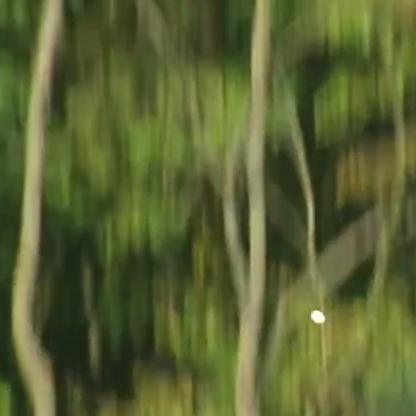golfball: (307, 309, 323, 322)
